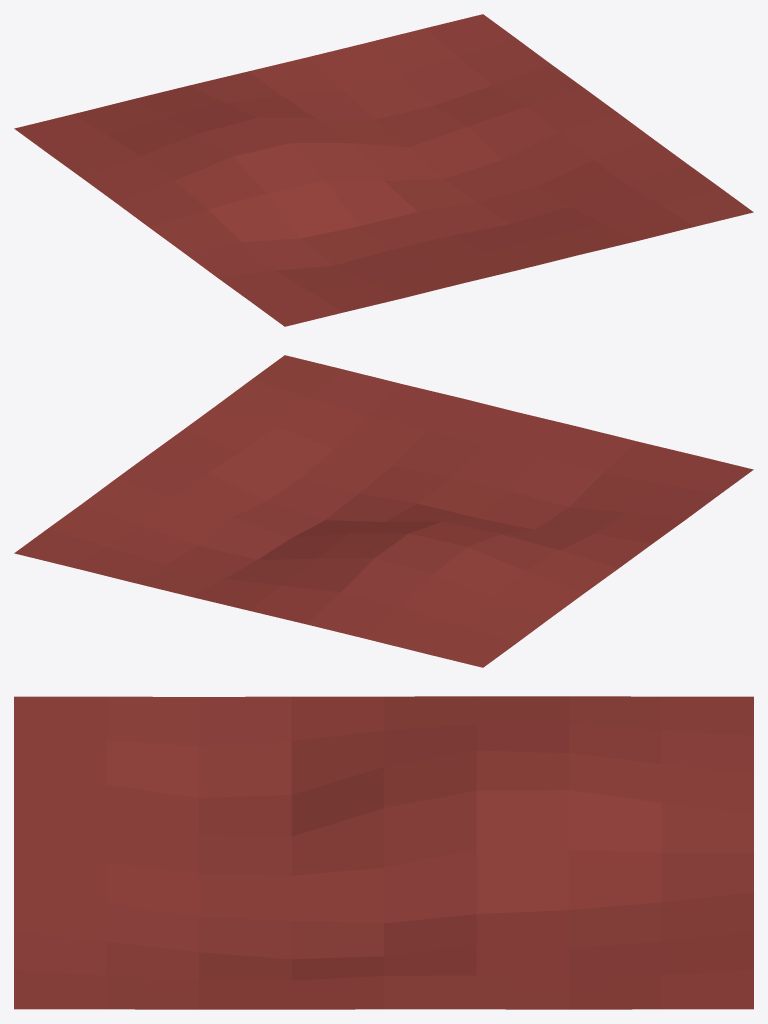
The model's file is Terrain_18_Red.fbx.
3 renders of one model, top to bottom at view 1: azimuth 30°, elevation 25°; view 2: azimuth 150°, elevation 25°; view 3: azimuth 270°, elevation 25°, orthographic. The views are drawn at different scales.
Visible parts, largest first — view 1: Terrain_18_Red; view 2: Terrain_18_Red; view 3: Terrain_18_Red.
Boxes of the visible parts, x1,y1,x2,y2 form: Terrain_18_Red: [14, 14, 753, 326]; Terrain_18_Red: [14, 355, 753, 667]; Terrain_18_Red: [14, 696, 753, 1009].
Size of the model in its own units: 7000 by 580 by 7000.
